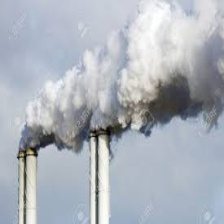smoke: (18, 14, 213, 145)
